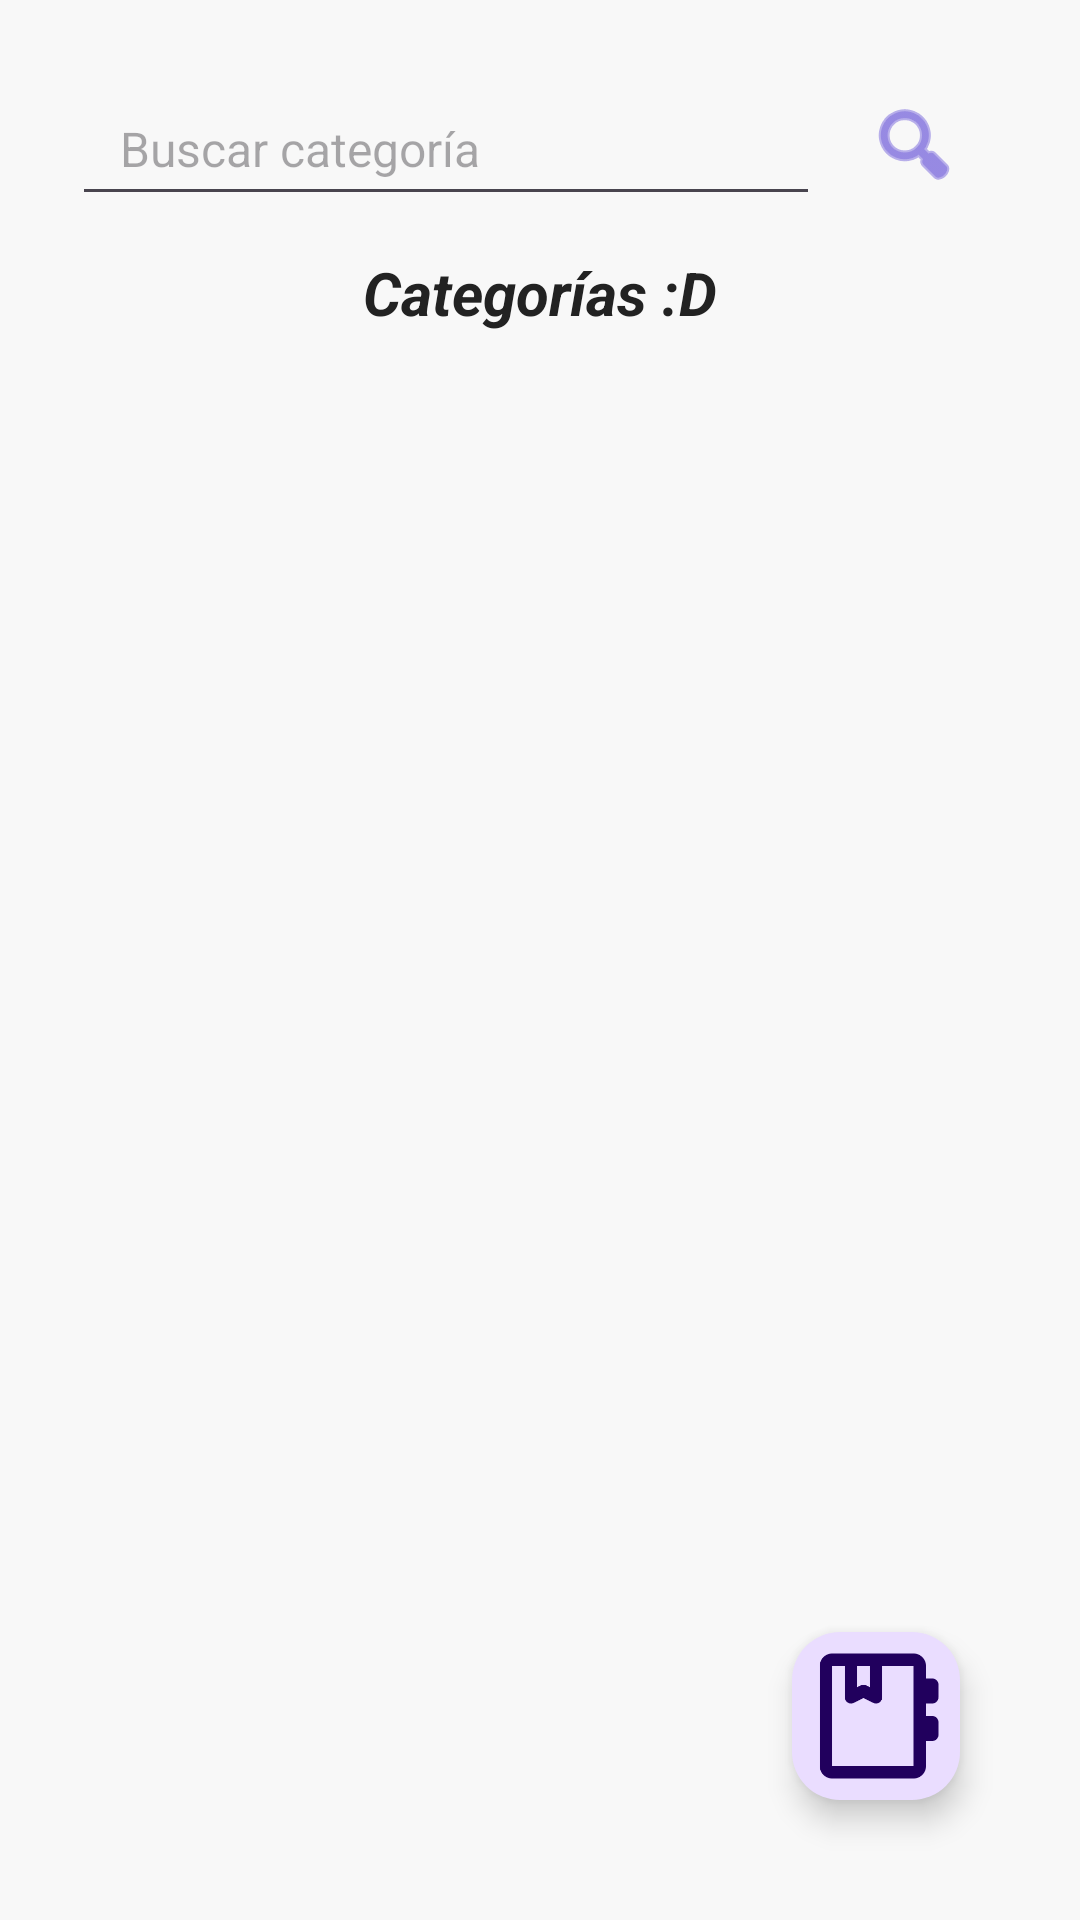

Where to tap for icons on this 1080px×1920px app screen, as [x,y]:
boton buscar: [914,144]
Ver mis citas: [876,1716]
